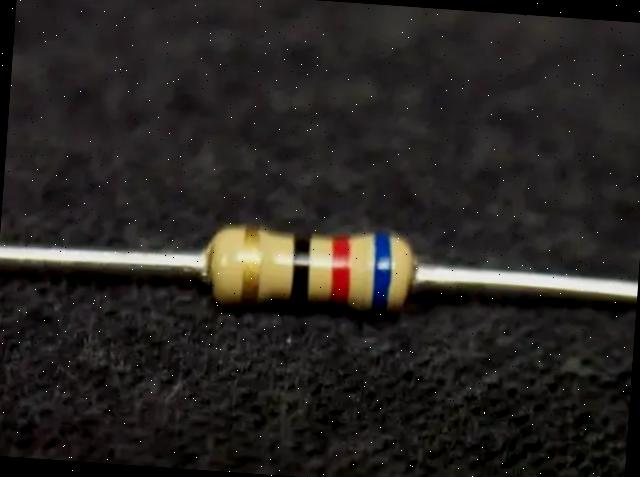black: (289, 231, 311, 302)
blue: (371, 231, 393, 309)
gold: (240, 225, 261, 301)
red: (328, 231, 351, 304)
resistor: (201, 204, 420, 324)
